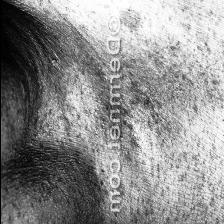Unclassified: (0, 144, 84, 222), (130, 48, 198, 138)
